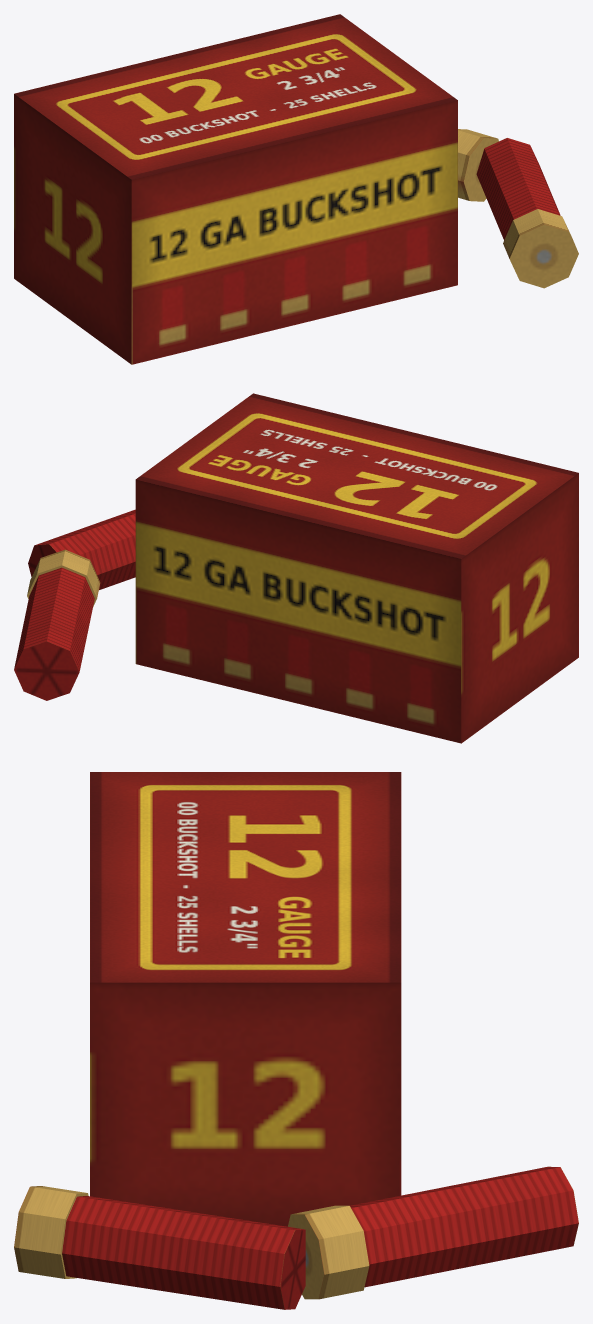
File: SM_ShotgunShells.fbx
The picture shows the model from 3 angles, top to bottom: view 1: azimuth 30°, elevation 25°; view 2: azimuth 150°, elevation 25°; view 3: azimuth 270°, elevation 25°; orthographic projection. The views are drawn at different scales.
Visible parts, largest first — view 1: SM_ShotgunShells; view 2: SM_ShotgunShells; view 3: SM_ShotgunShells.
Boxes of the visible parts, x1,y1,x2,y2 form: SM_ShotgunShells: [14, 14, 578, 364]; SM_ShotgunShells: [14, 393, 578, 743]; SM_ShotgunShells: [14, 772, 578, 1309].
Size of the model in its own units: 0.1765 by 0.0657 by 0.136.
1 material, 1 textured.
